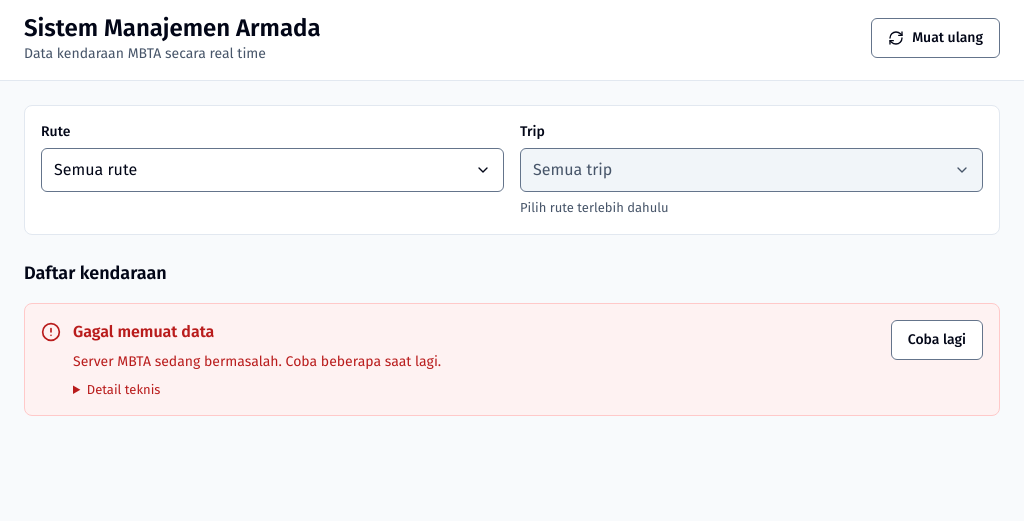
DashboardPage › explains a server error and recovers on retry
Check: the message shows "Server MBTA sedang bermasalah. Coba beberapa saat lagi.", box [73,352,441,370]
Click the button "Coba lagi": coordinates (937, 340) [891,320,983,360]
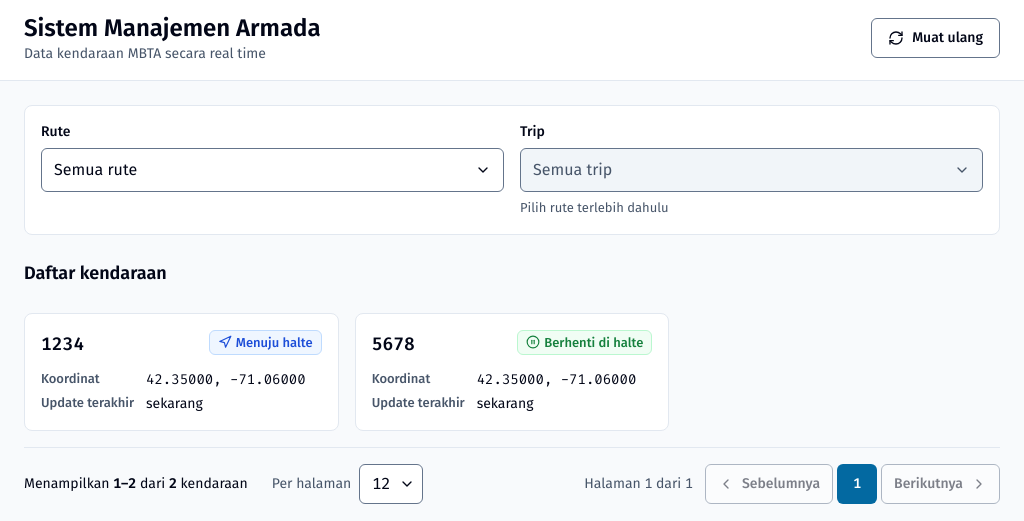
Check: the button with aria-label "Kendaraan 1234" is shown, box [24,312,339,430]
Check: the message is gone
